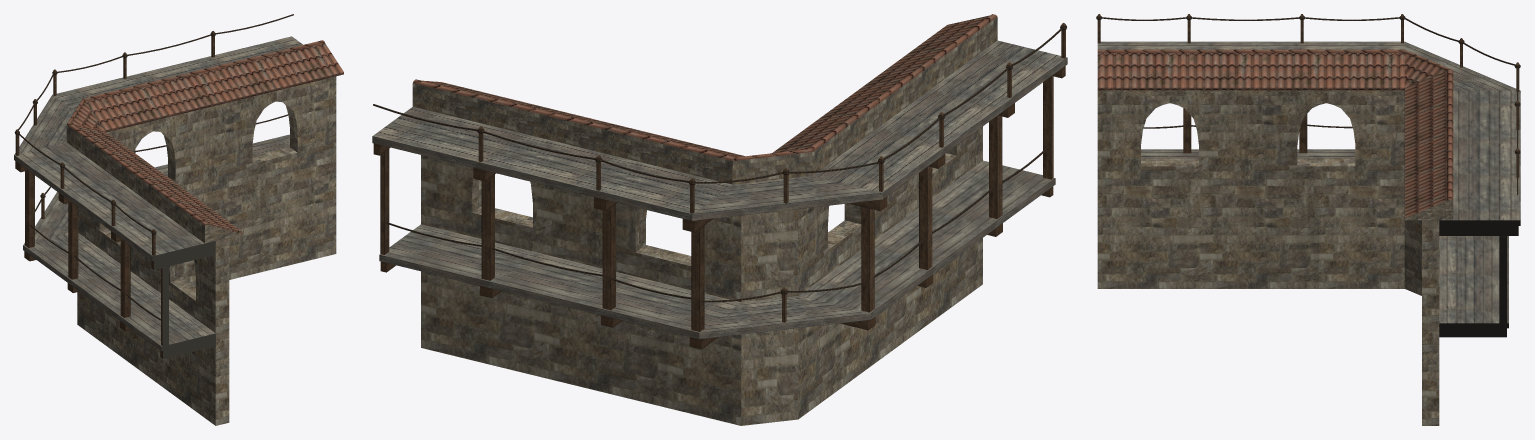
File: FortWallCornerR2.dae
The picture shows the model from 3 angles, left to right: view 1: azimuth 30°, elevation 25°; view 2: azimuth 150°, elevation 25°; view 3: azimuth 270°, elevation 25°; orthographic projection. The views are drawn at different scales.
Parts seen in each view (by area): view 1: forts_stone_copy185-0; view 2: forts_stone_copy185-0; view 3: forts_stone_copy185-0.
Part boxes in pixels (left/top/right/bottom): forts_stone_copy185-0: left=14, top=14, right=343, bottom=425; forts_stone_copy185-0: left=372, top=14, right=1067, bottom=425; forts_stone_copy185-0: left=1096, top=14, right=1520, bottom=425.
Bounding box in the file's own units: 14.63 × 8.92 × 14.65.
